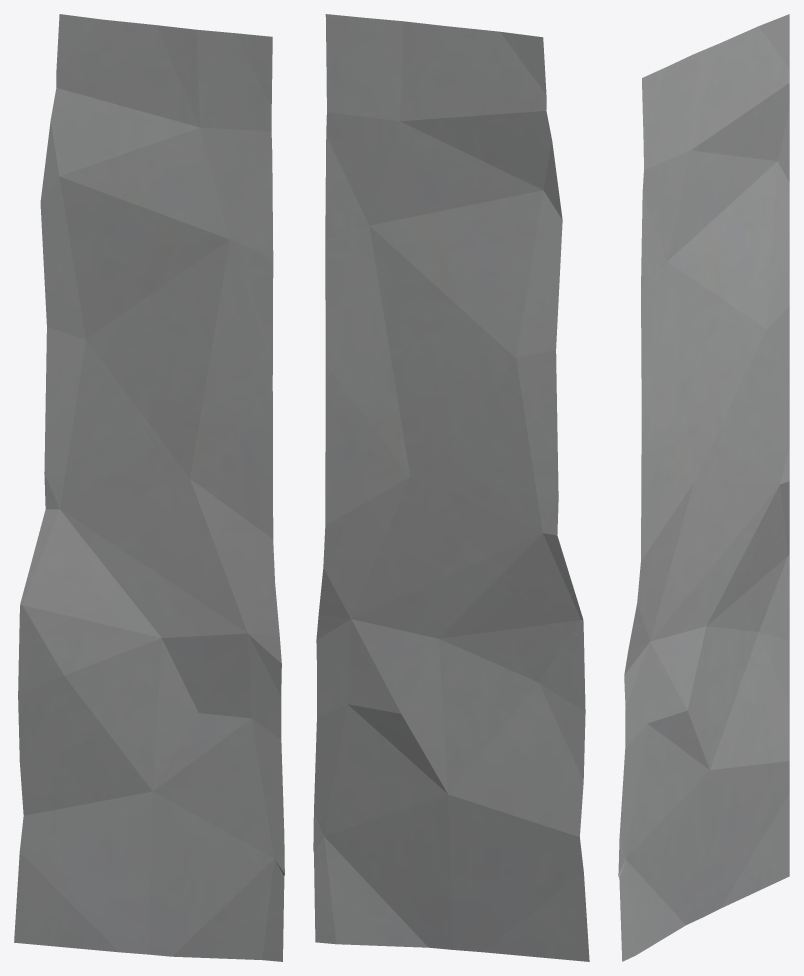
The picture shows the model from 3 angles, left to right: view 1: azimuth 30°, elevation 25°; view 2: azimuth 210°, elevation 25°; view 3: azimuth 270°, elevation 25°; orthographic projection. The views are drawn at different scales.
Bounding box in the file's own units: 0.1738 × 0.8374 × 0.147.
Materials: 1 (1 with a texture image).
